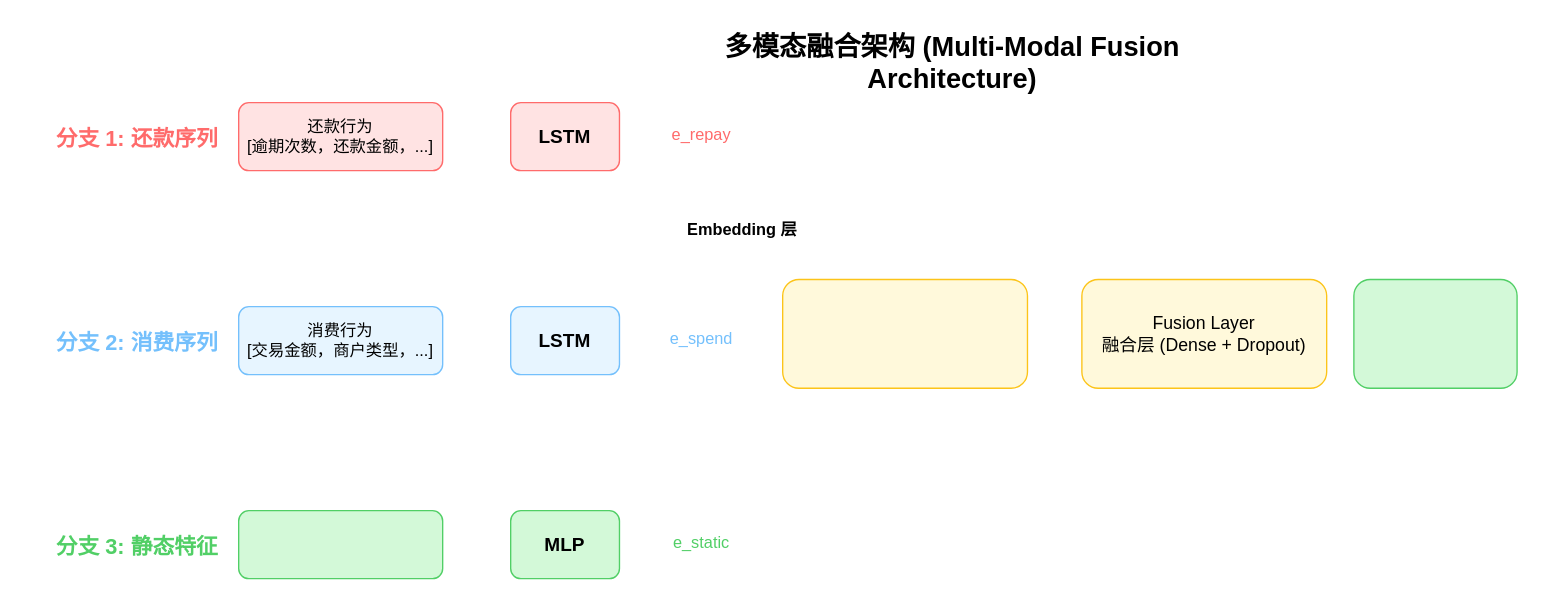
This 1541x602 diagram has some shape labels left out. The centre of each missing label's shape, as x and y in pixels:
Concat [e_repay, e_spend, e_static]: point (904, 333)
输出 违约概率: point (1435, 333)
静态特征 [年龄，收入，职业，...]: point (340, 544)
